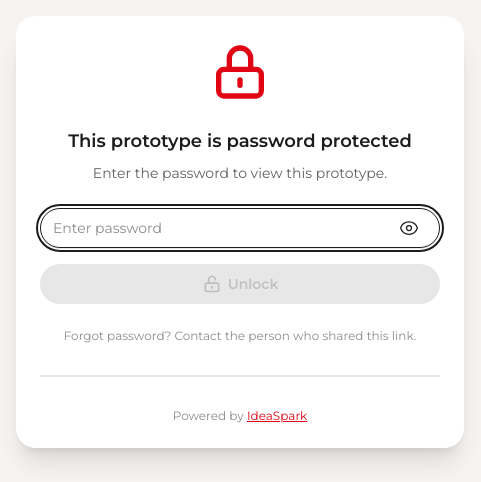
Test case: PasswordProtectedViewer › should enable Unlock button when password is entered
Step 1. Type "somepassword" into the password field with test id "verify-password-input" → [240, 228], box top-left (40, 208), bottom-right (440, 248)
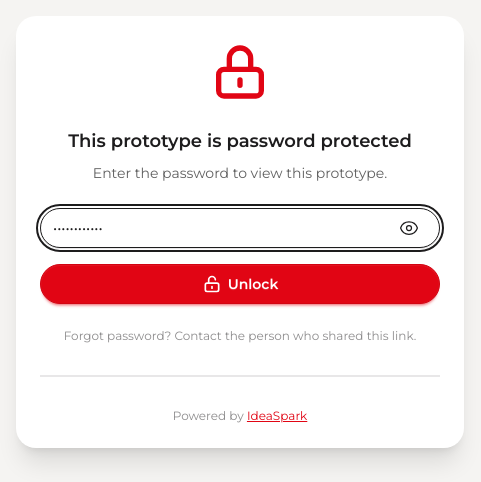
Check: the button "Unlock" is enabled, box top-left (40, 264), bottom-right (440, 304)
